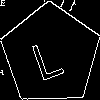L: (25, 29, 66, 82)
